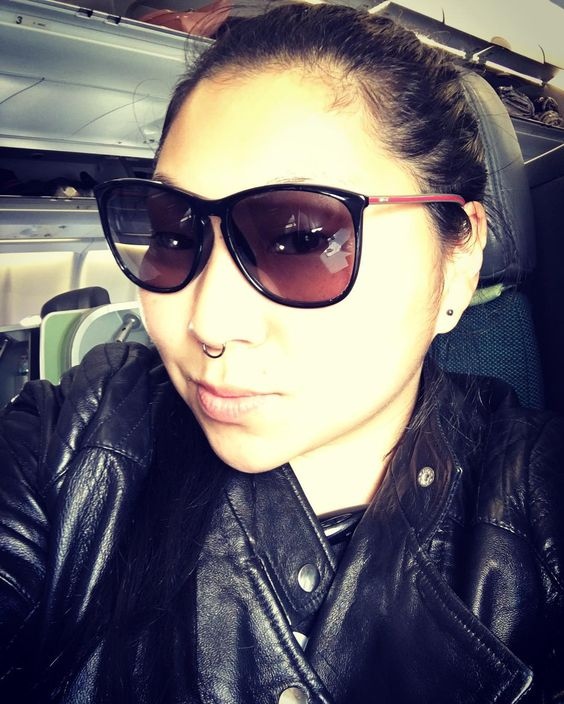sunglasses: (110, 178, 345, 301)
